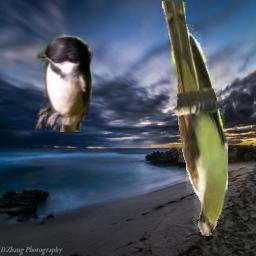Cuckoo: (162, 1, 228, 236)
Swallow: (34, 33, 93, 132)
